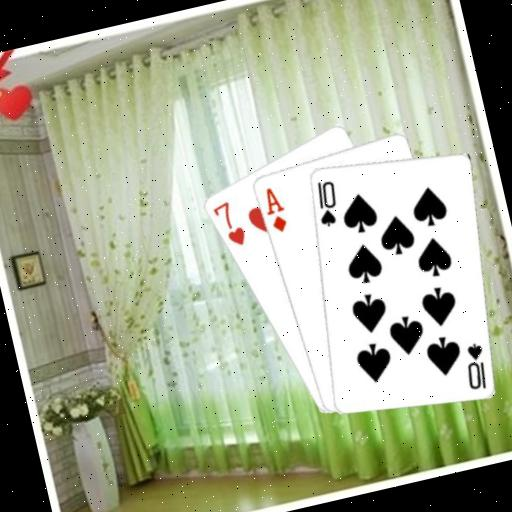10S: (456, 337, 493, 393), (308, 175, 344, 230)
7H: (208, 196, 249, 253)
AD: (258, 182, 291, 236)
